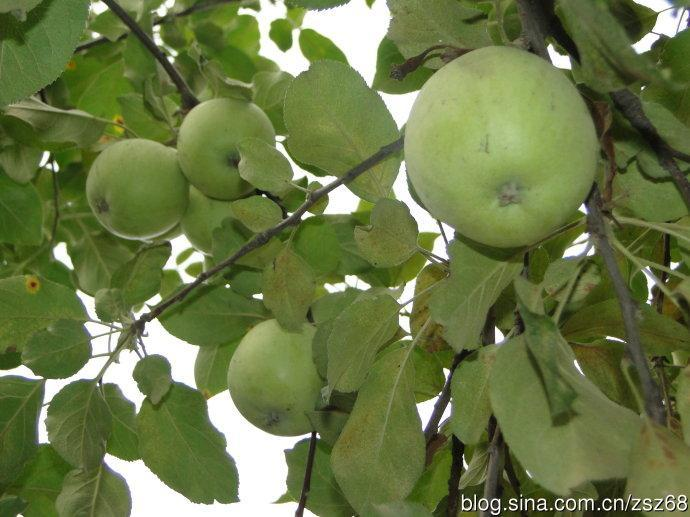apple: (400, 48, 601, 256), (225, 315, 321, 435), (84, 137, 188, 240), (175, 97, 279, 200)
